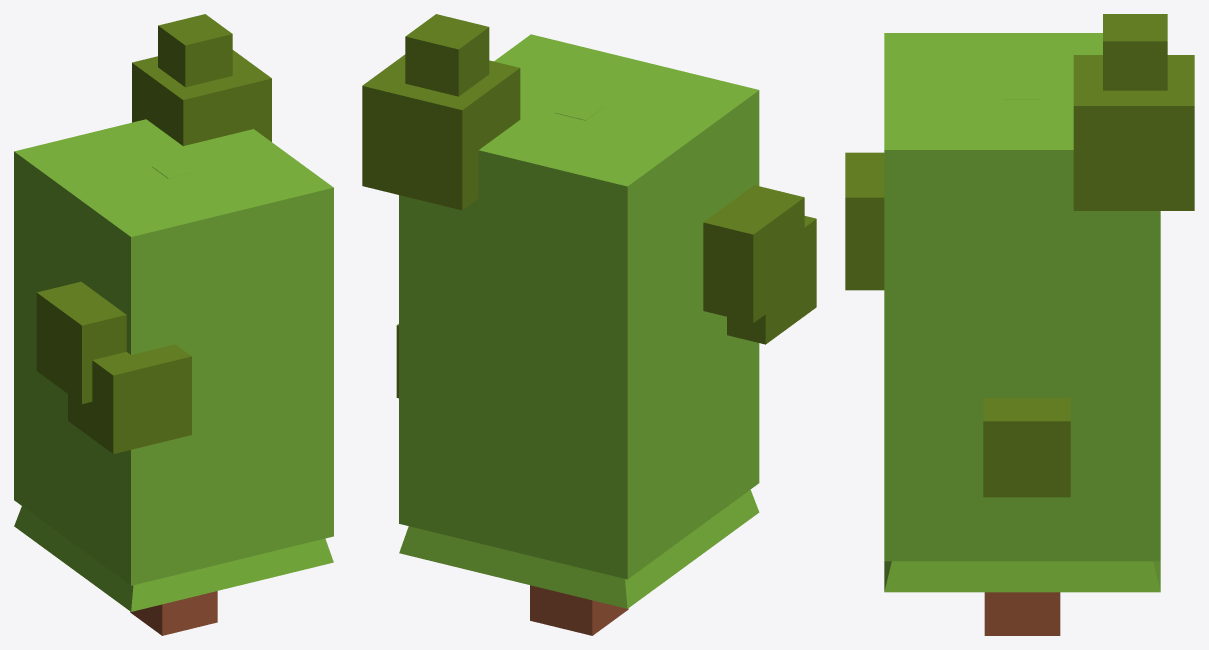
File: Trees_Pack-Models.fbx
The picture shows the model from 3 angles, left to right: view 1: azimuth 30°, elevation 25°; view 2: azimuth 150°, elevation 25°; view 3: azimuth 270°, elevation 25°; orthographic projection. The views are drawn at different scales.
Parts seen in each view (by area): view 1: Tree_1, Tree_2; view 2: Tree_1, Tree_2; view 3: Tree_1, Tree_2.
Part boxes in pixels (left/top/right/bottom): Tree_1: left=14, top=14, right=333, bottom=635; Tree_2: left=14, top=160, right=333, bottom=635; Tree_1: left=362, top=14, right=816, bottom=635; Tree_2: left=399, top=99, right=759, bottom=635; Tree_1: left=845, top=14, right=1194, bottom=635; Tree_2: left=884, top=83, right=1160, bottom=635.
Size of the model in its own units: 7.32 by 6.53 by 13.03.
